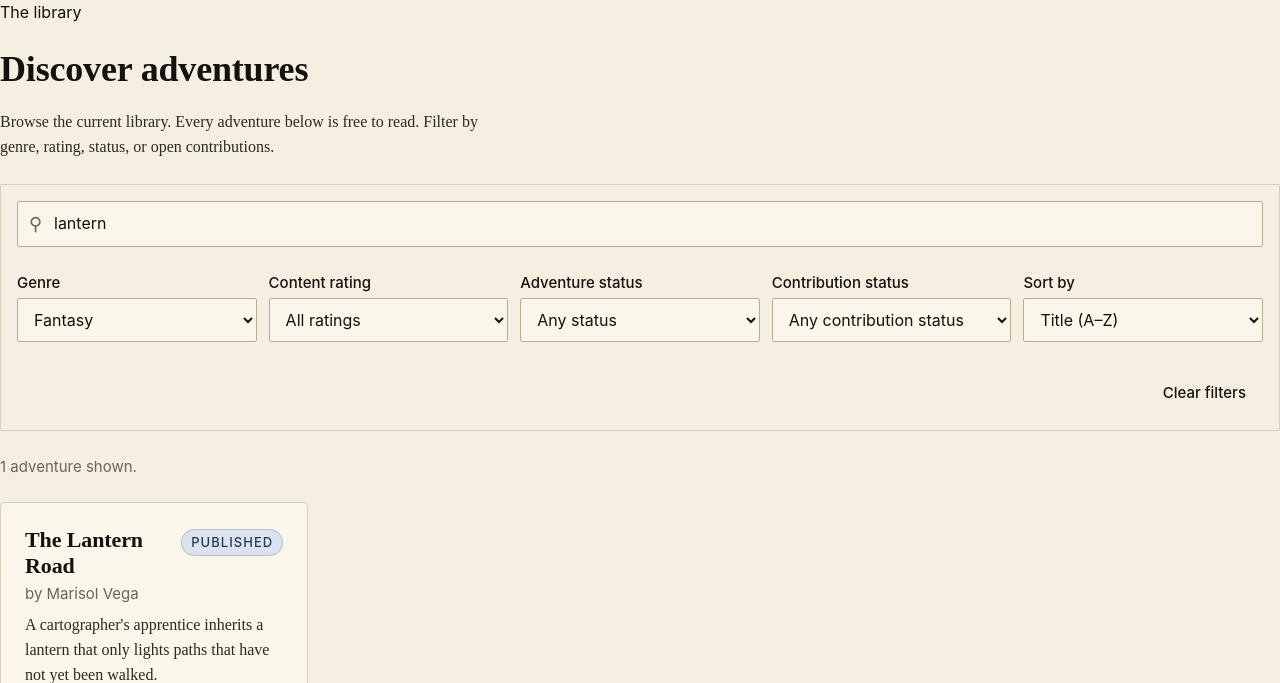
Test: Discover — URL-backed filters › clear filters resets the URL and the controls
Click the button with test id "discover-clear". click: click(1204, 392)
box: [1146,370,1263,414]
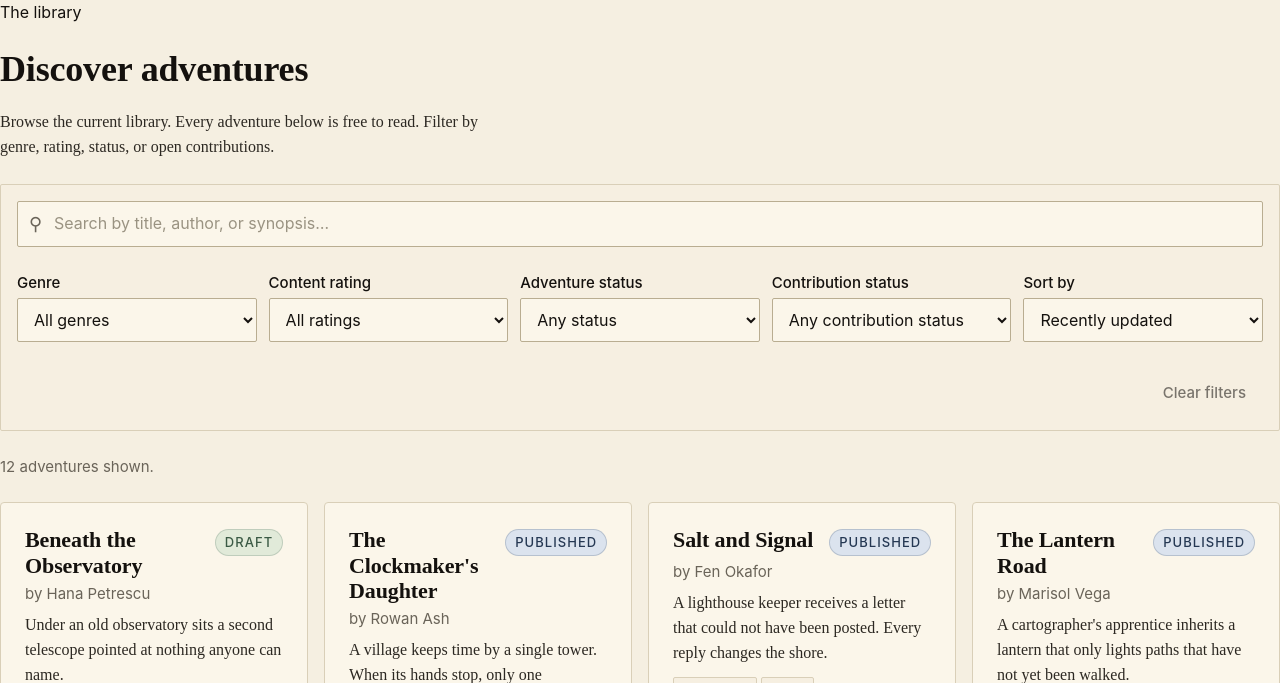
Expected: the dropdown with test id "filter-genre" shows "All genres", [17,298,257,342]
Expected: the dropdown with test id "filter-sort" shows "Recently updated", [1023,298,1263,342]
